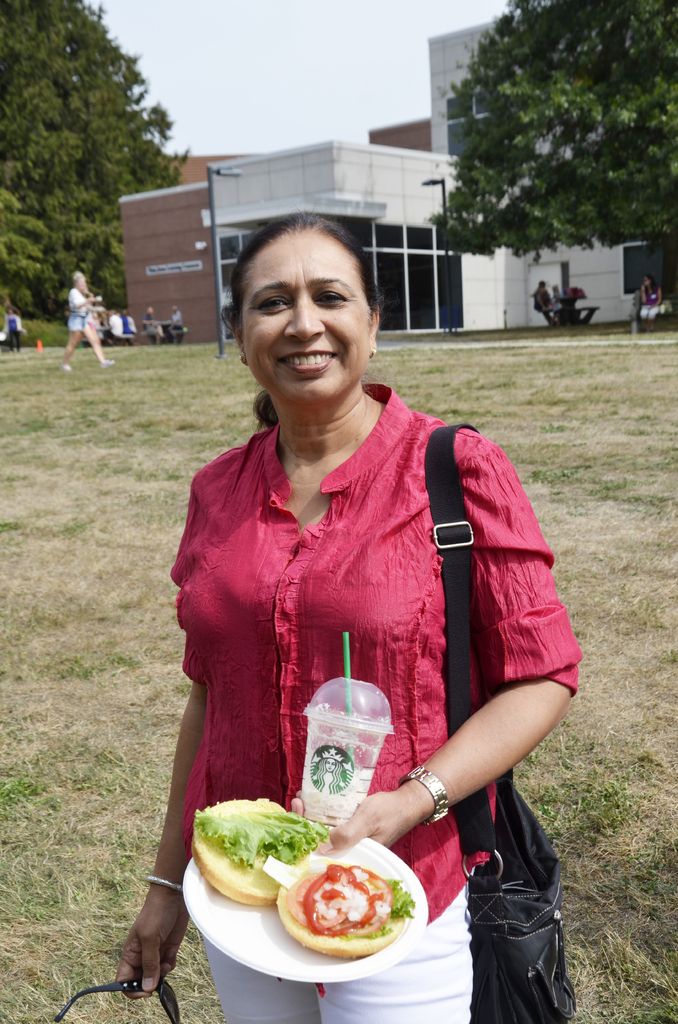Hamburger: (194, 798, 416, 959)
